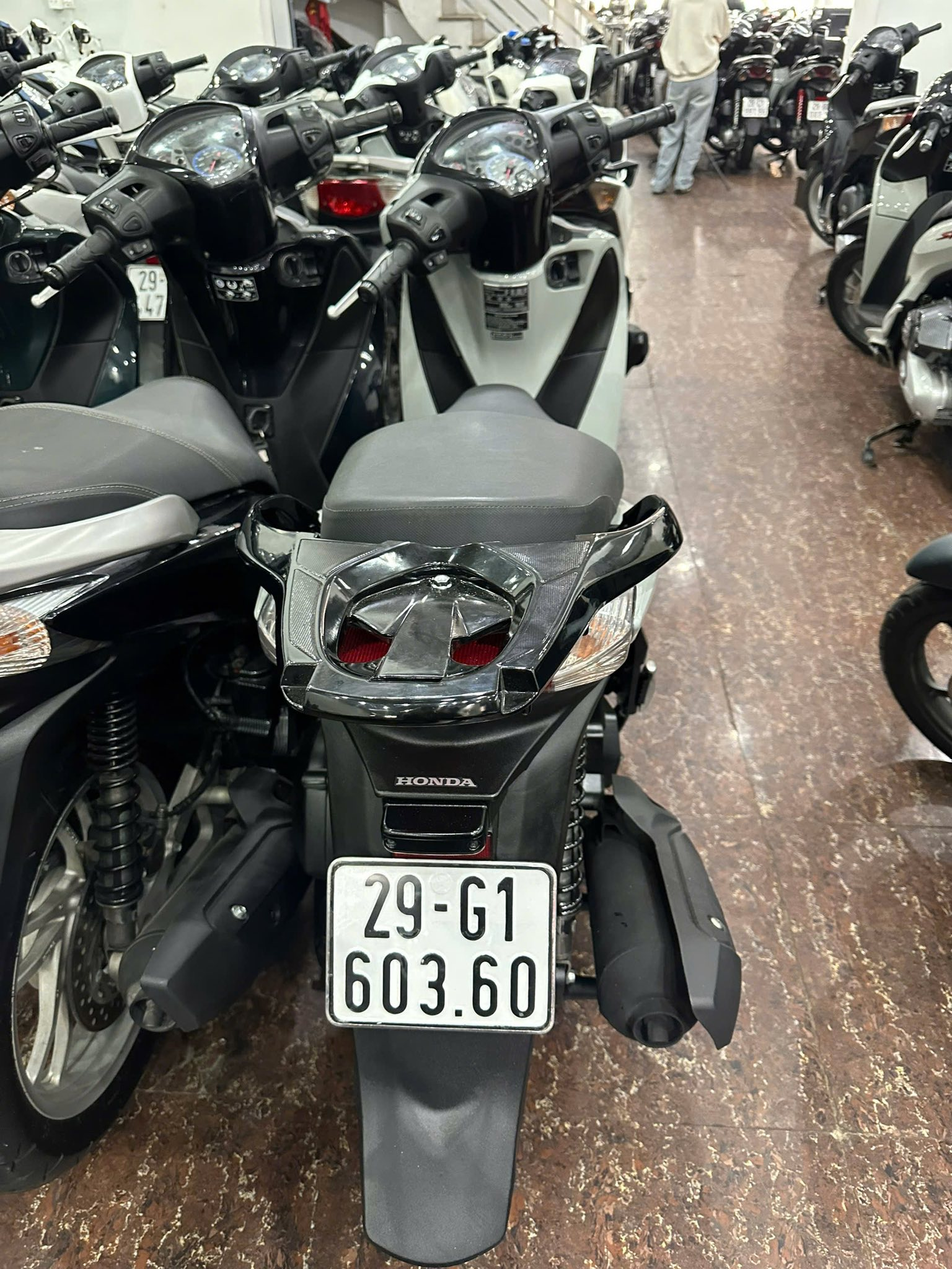bien_so: (317, 846, 562, 1045)
